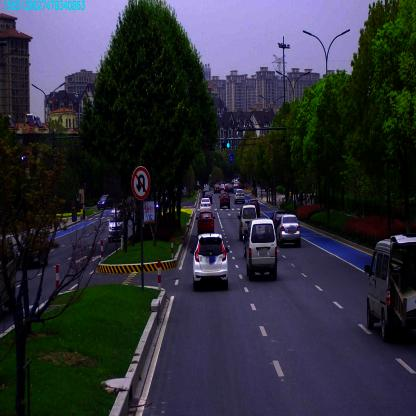traffic-light: (221, 142, 231, 149)
